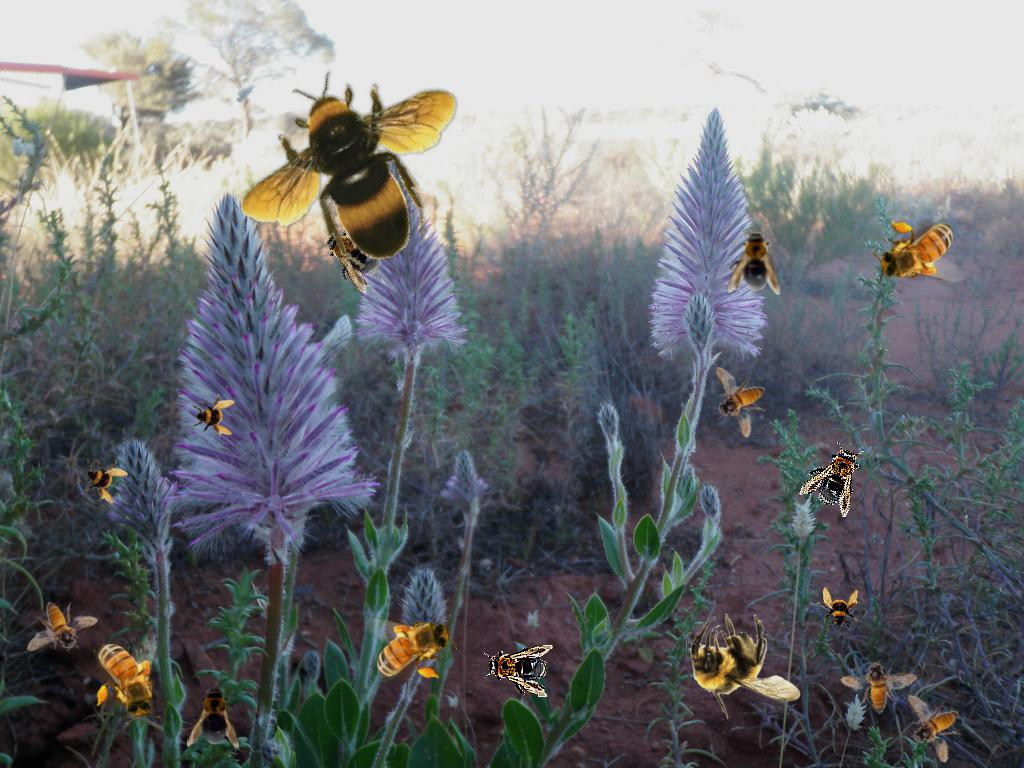Bee: (217, 16, 501, 307), (686, 613, 801, 720), (309, 214, 395, 296), (798, 434, 874, 518), (93, 631, 161, 724), (873, 218, 966, 286), (364, 614, 457, 682), (833, 649, 919, 722), (907, 690, 963, 767), (481, 640, 553, 698), (715, 367, 765, 438), (27, 602, 98, 652), (728, 227, 780, 295), (187, 682, 239, 750), (74, 449, 132, 507), (191, 393, 235, 437), (816, 587, 860, 631)
